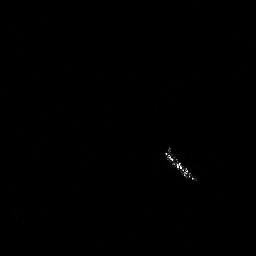ship: (164, 146, 196, 182)
